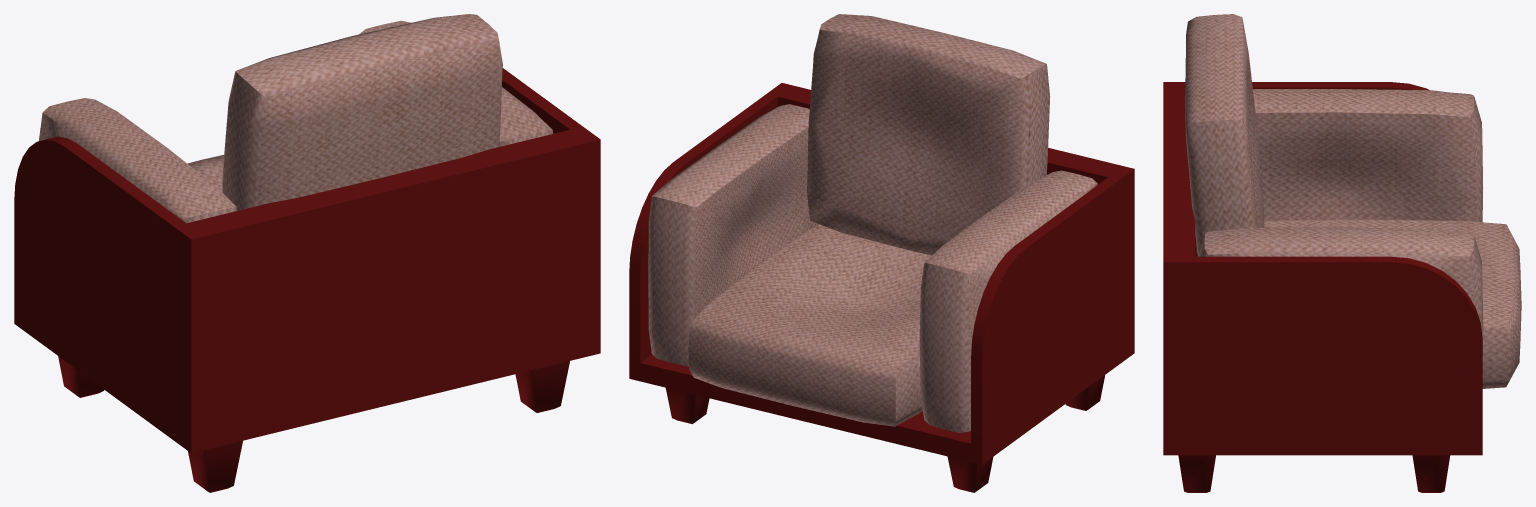
The model's file is furniture_seating_210064.glb.
3 views of the same model, side by side, from view 1: azimuth 30°, elevation 25°; view 2: azimuth 150°, elevation 25°; view 3: azimuth 270°, elevation 25° (orthographic). The views are drawn at different scales.
Visible parts, largest first — view 1: furniture_seating_210064; view 2: furniture_seating_210064; view 3: furniture_seating_210064.
Part boxes in pixels (x1=…): furniture_seating_210064: x1=14, y1=14, x2=600, y2=492; furniture_seating_210064: x1=629, y1=14, x2=1134, y2=492; furniture_seating_210064: x1=1163, y1=14, x2=1521, y2=492.
Bounding box in the file's own units: 0.9557 × 0.8823 × 0.8029.
Materials: 1 (1 with a texture image).
